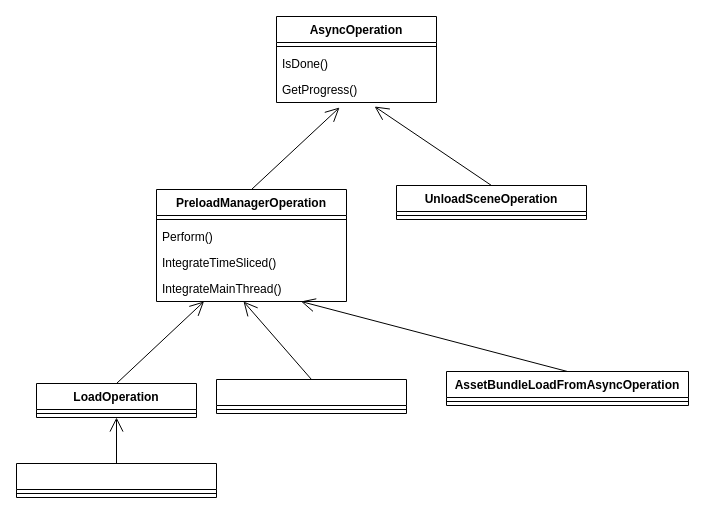
Image size: 705x514. Some labels were removed from this diagram. Here are the shapes that lost their labels. From the top down, the centre of each, then its label:
point 311,396: UnloadUnusedAssetsOperation
point 116,480: AssetBundleLoadAssetOperation
